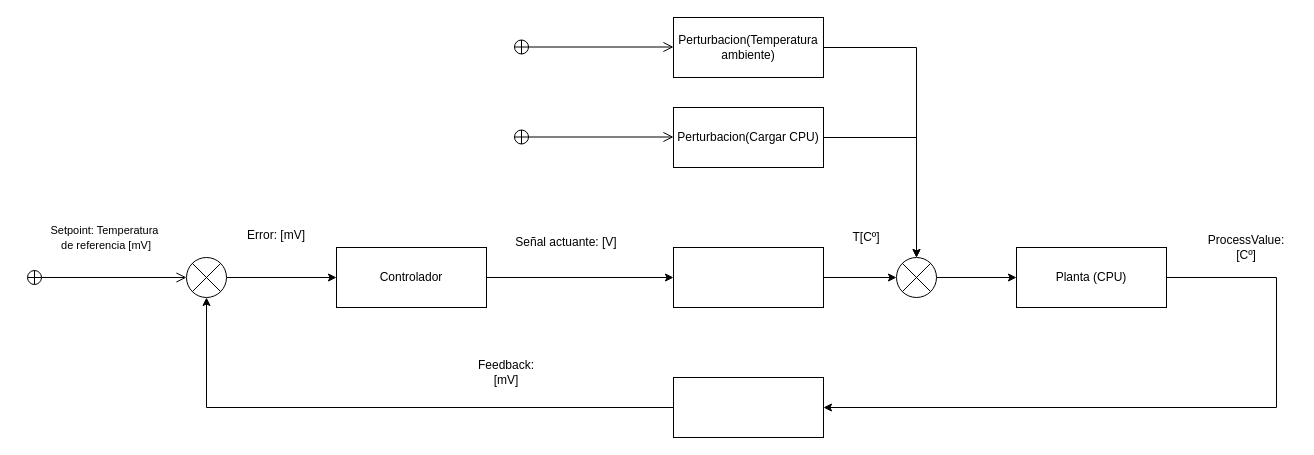
Some shapes in this 1314 by 455 pixel diagram are drawn without their labels. The box of each missing label's shape, as (x1, y1, x2, y2) in pixels:
Actuador (Ventilador): (672, 246, 824, 308)
Sensor (LM35): (672, 376, 824, 438)
